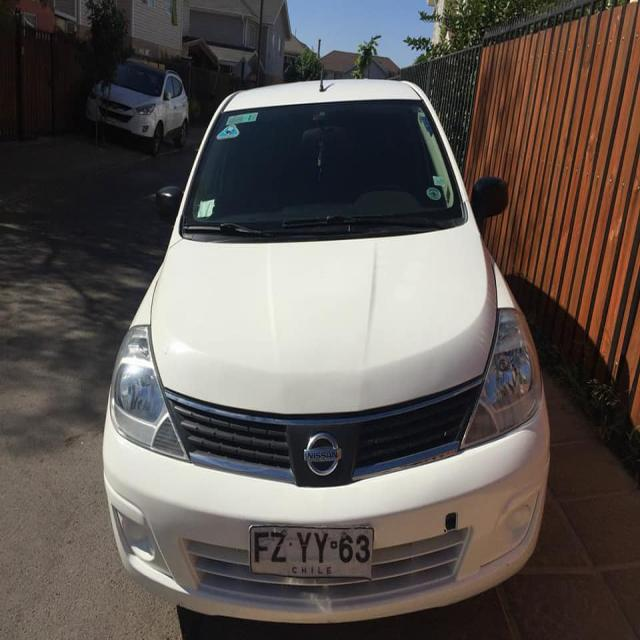patente: (248, 524, 374, 582)
